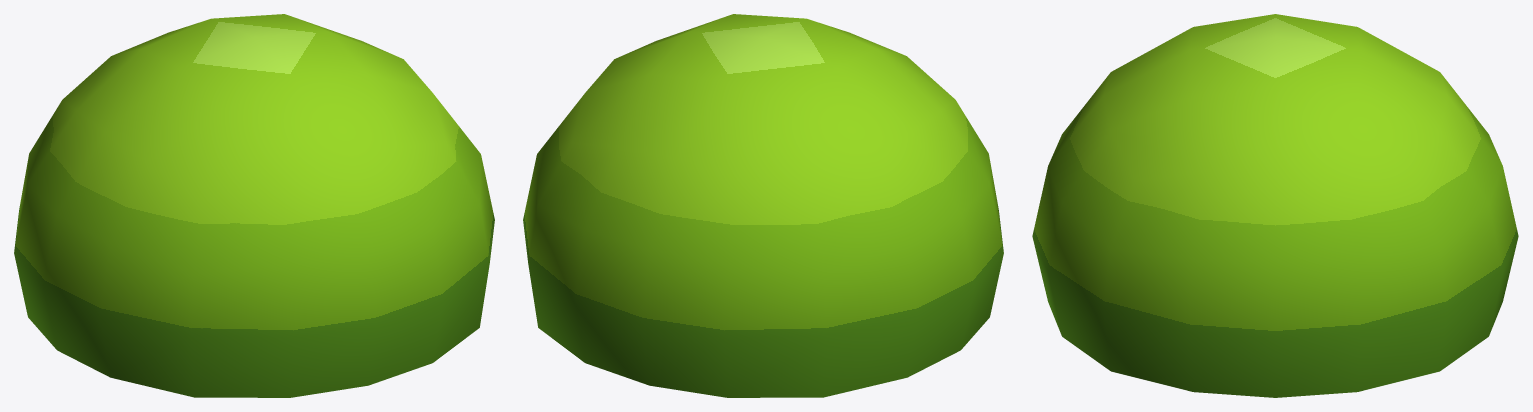
The model's file is Bush_Base.fbx.
3 renders of one model, left to right at view 1: azimuth 30°, elevation 25°; view 2: azimuth 150°, elevation 25°; view 3: azimuth 270°, elevation 25°, orthographic.
Visible parts, largest first — view 1: Roundcube; view 2: Roundcube; view 3: Roundcube.
Boxes of the visible parts, bbox=[...] form: Roundcube: bbox=[14, 14, 494, 397]; Roundcube: bbox=[523, 14, 1003, 397]; Roundcube: bbox=[1032, 14, 1518, 397].
Size of the model in its own units: 64.36 by 38.62 by 64.36.
